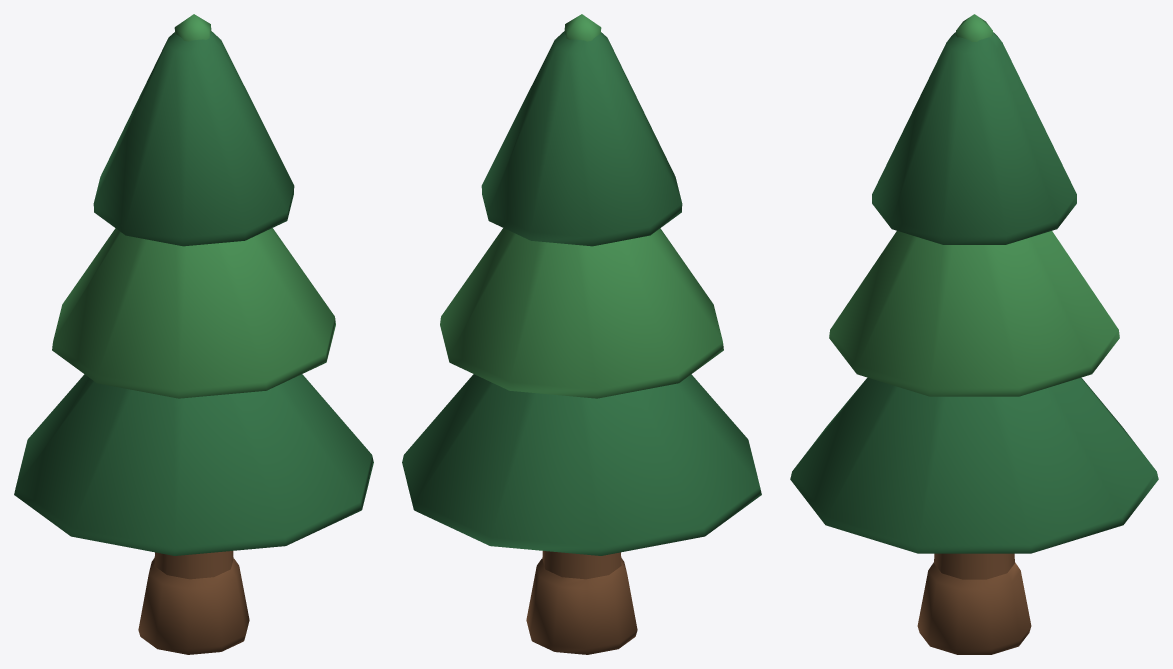
Rendered from v_tree_pine.glb.
The picture shows the model from 3 angles, left to right: view 1: azimuth 30°, elevation 25°; view 2: azimuth 150°, elevation 25°; view 3: azimuth 270°, elevation 25°; orthographic projection.
Parts seen in each view (by area): view 1: Pine; view 2: Pine; view 3: Pine.
Boxes of the visible parts, x1=… form: Pine: x1=14, y1=14, x2=373, y2=654; Pine: x1=402, y1=14, x2=761, y2=654; Pine: x1=790, y1=14, x2=1158, y2=654.
Bounding box in the file's own units: 1.61 × 3.15 × 1.69.
